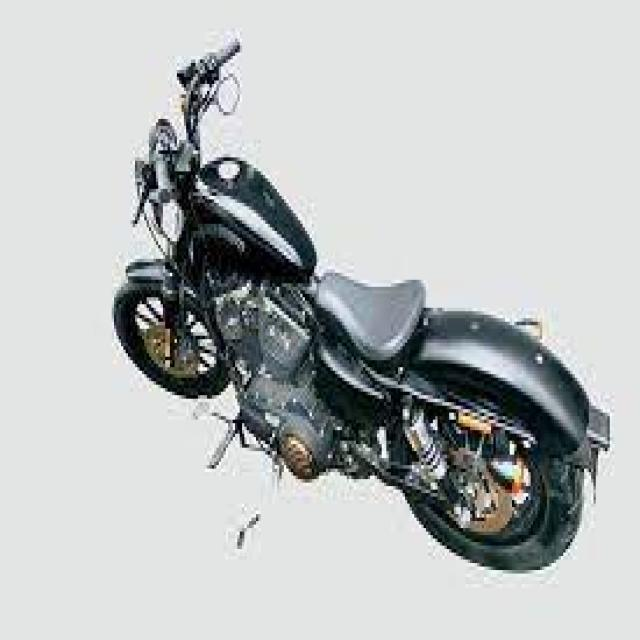MOTORCYCLE: (106, 153, 609, 612)
